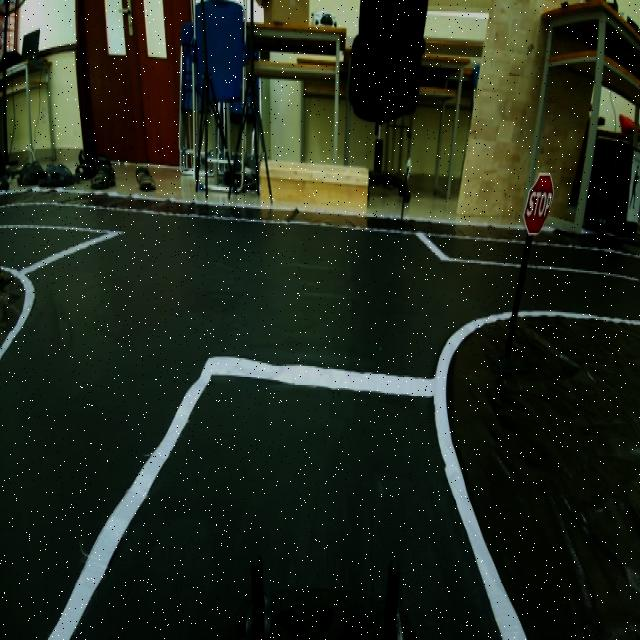stop: (517, 166, 563, 247)
